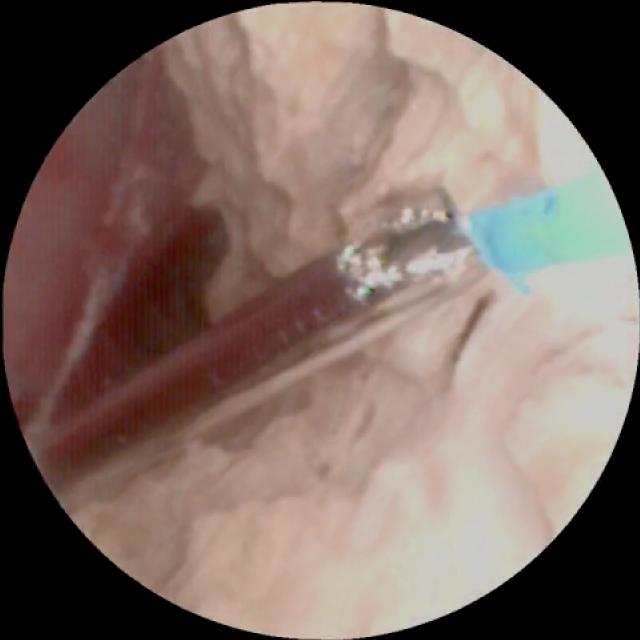fiber: (471, 168, 625, 290)
stone: (98, 271, 629, 630), (169, 5, 538, 313)
